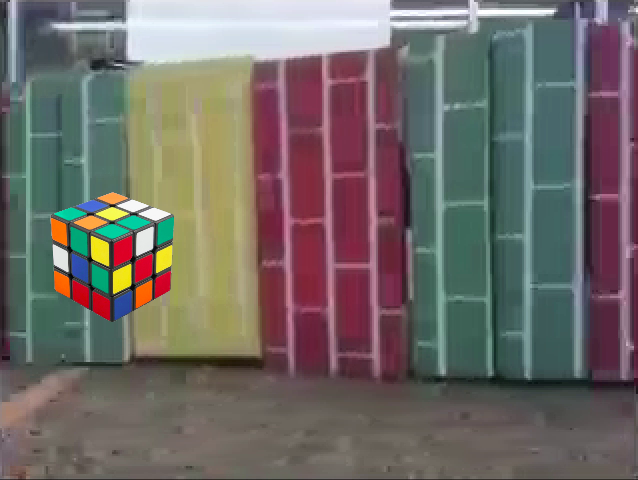cube: (493, 198, 617, 328)
